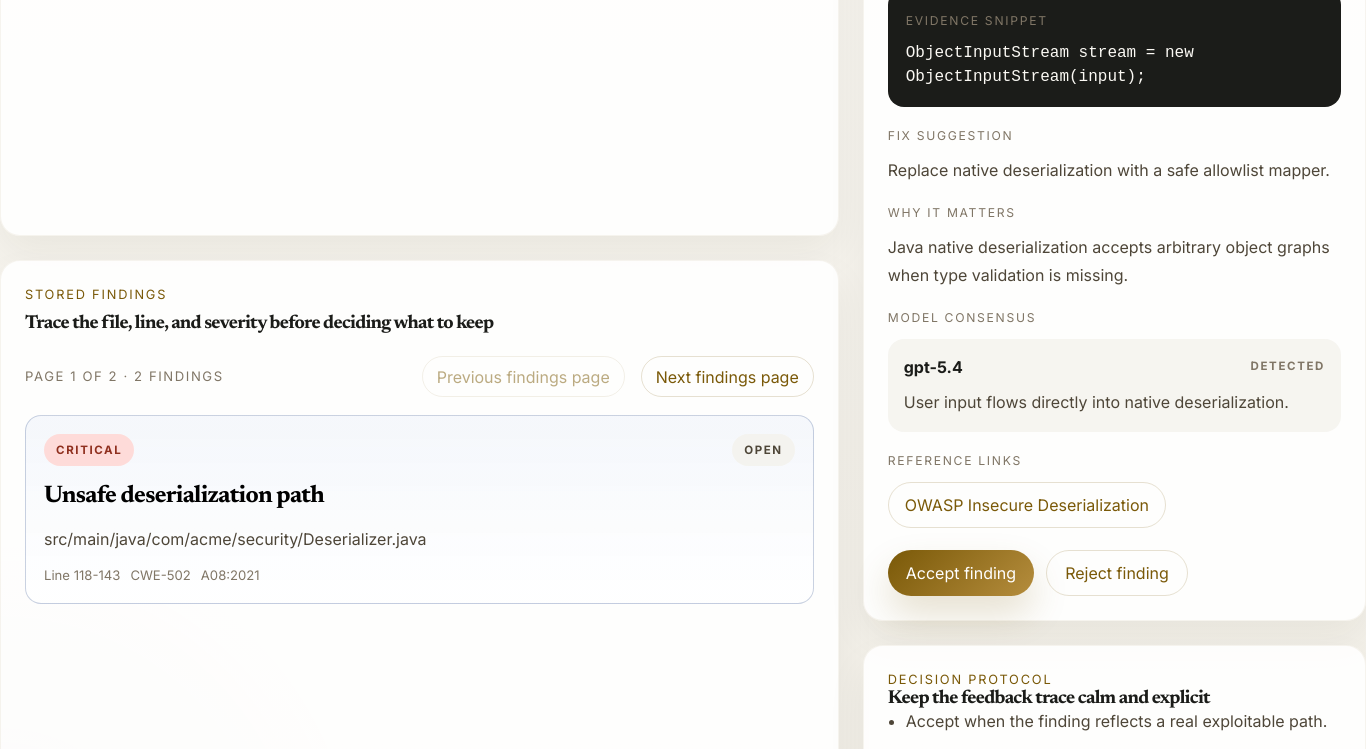
Test: VulnerabilityReviewPage › supports paginated vulnerability pages without hiding later findings
(page scrolled)
Expected: the text "Page 1 of 2 · 2 findings" is shown, [25,367,224,386]
Click the button "Next findings page".
click(727, 377)  # box [641,356,814,398]
(page scrolled)
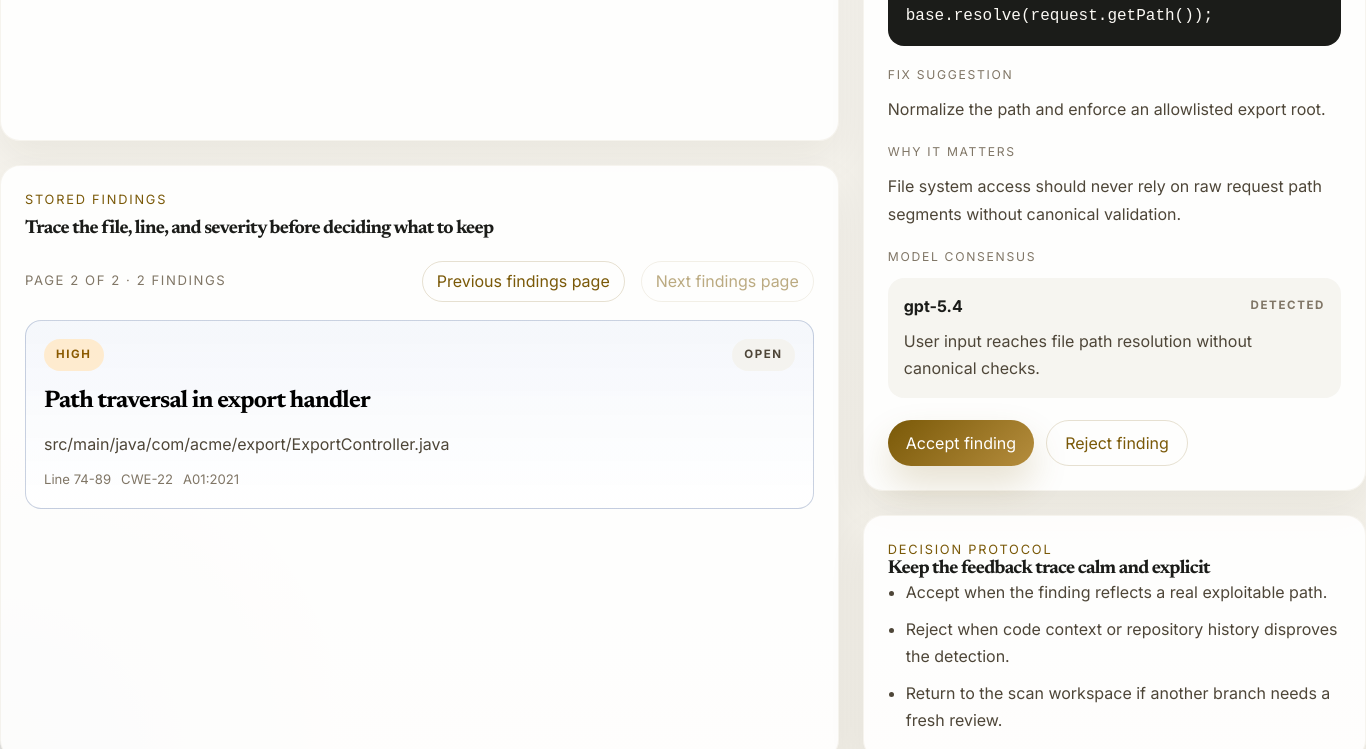
Expected: the text "Page 2 of 2 · 2 findings" is shown, [25,272,226,291]
Expected: the button "Path traversal in export handler" is shown, [25,320,814,509]
